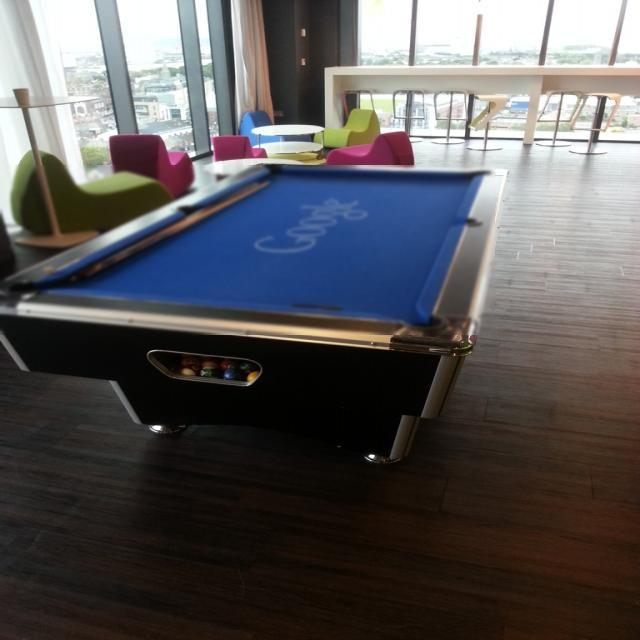Billiard table: (0, 165, 495, 335)
